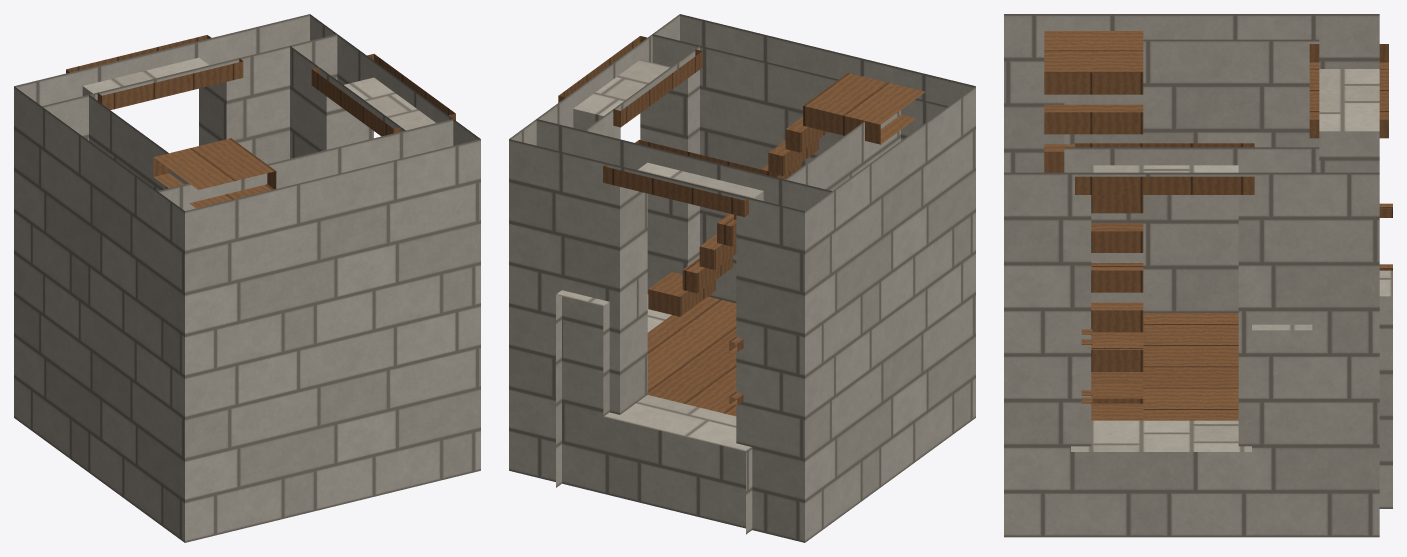
Rendered from Tower_Door_Concave.fbx.
3 views of the same model, side by side, from view 1: azimuth 30°, elevation 25°; view 2: azimuth 150°, elevation 25°; view 3: azimuth 270°, elevation 25° (orthographic). The views are drawn at different scales.
Visible parts, largest first — view 1: Tower_Door_Concave; view 2: Tower_Door_Concave; view 3: Tower_Door_Concave.
Boxes of the visible parts, x1=… form: Tower_Door_Concave: x1=14, y1=14, x2=480, y2=542; Tower_Door_Concave: x1=509, y1=14, x2=975, y2=542; Tower_Door_Concave: x1=1004, y1=14, x2=1392, y2=537.
Bounding box in the file's own units: 2.9 × 3 × 2.9.
Materials: 2 (2 with a texture image).
